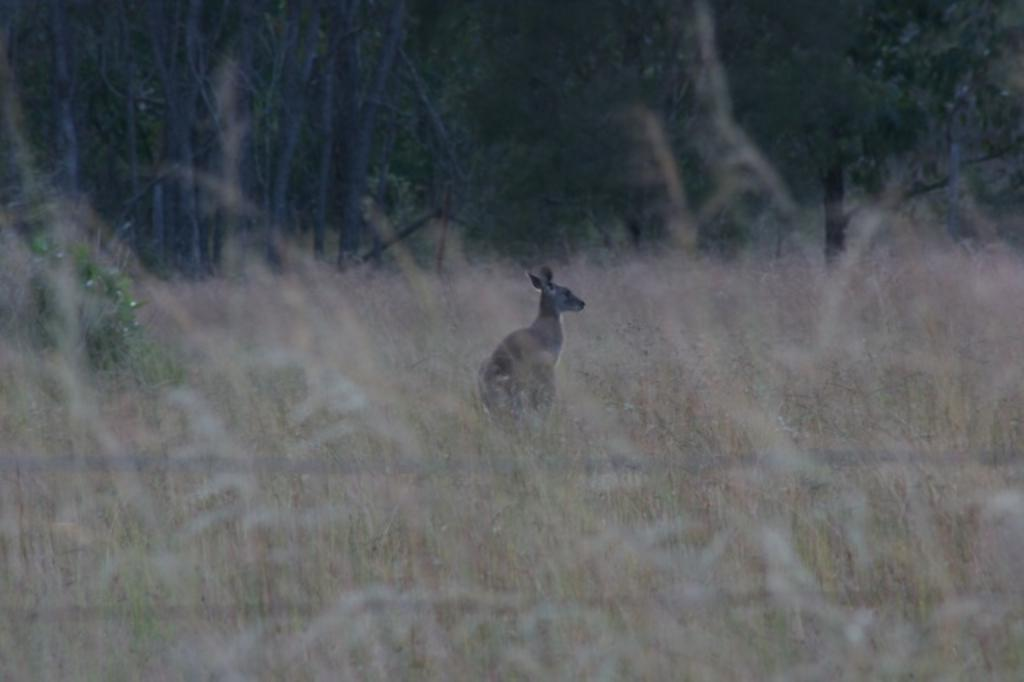kangaroo: (480, 266, 582, 418)
